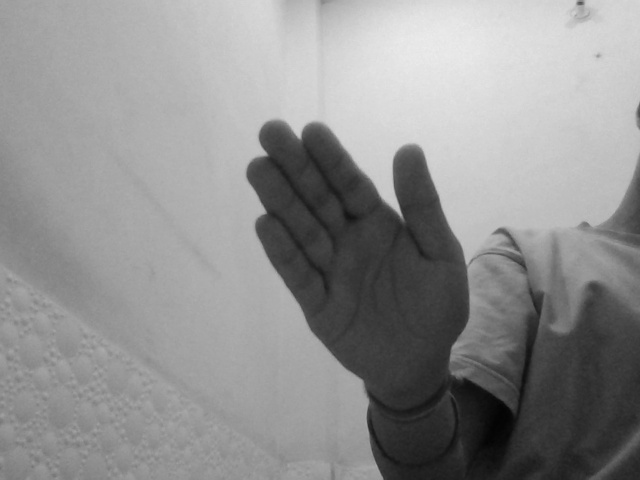Hello: (235, 113, 474, 399)
